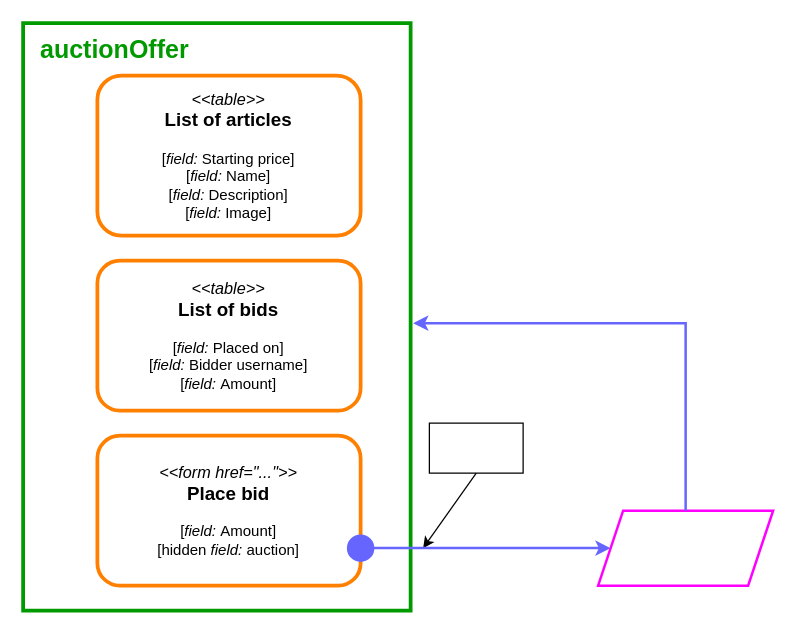
Image size: 796x634. Some labels were removed from this diagram. The shapes that lost their labels are listed below. From the top down, each one's centre as x and y in pixels, then its label:
the point at 475,447: POST auction, bid
the point at 685,547: <<HttpServlet>> placeBid
